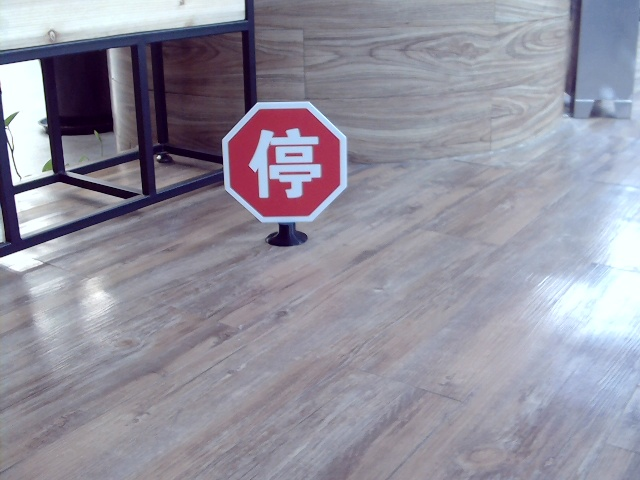stop: (245, 126, 326, 199)
